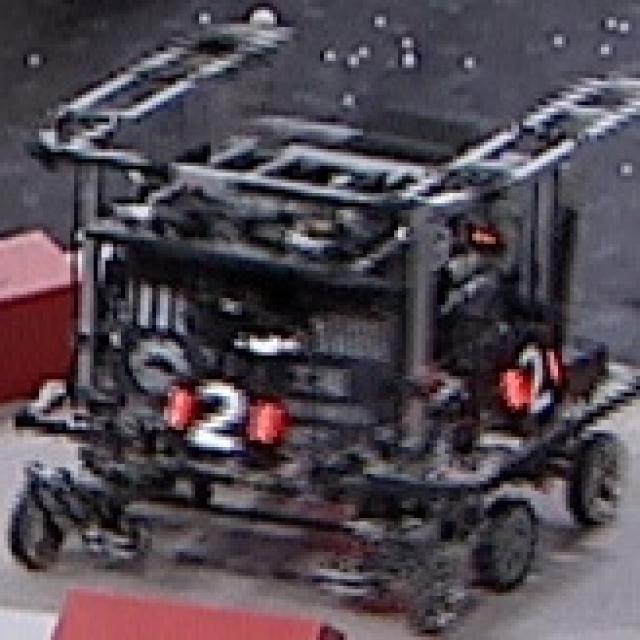R2: (152, 374, 285, 456), (488, 330, 562, 422)
